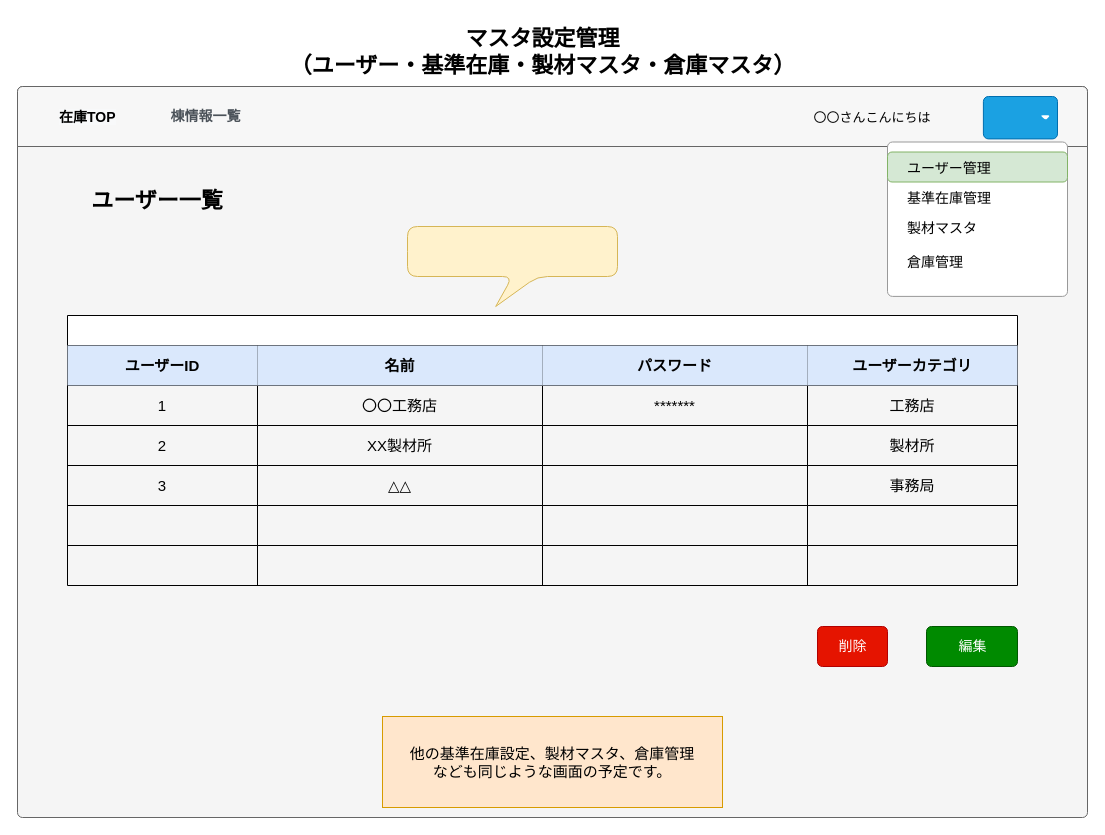
Image size: 1105x835. Some labels were removed from this diagram. Each missing label, with the box of its shape:
ユーザーマスタの一覧・設定: (406, 226, 618, 306)
管理: (982, 96, 1058, 139)
